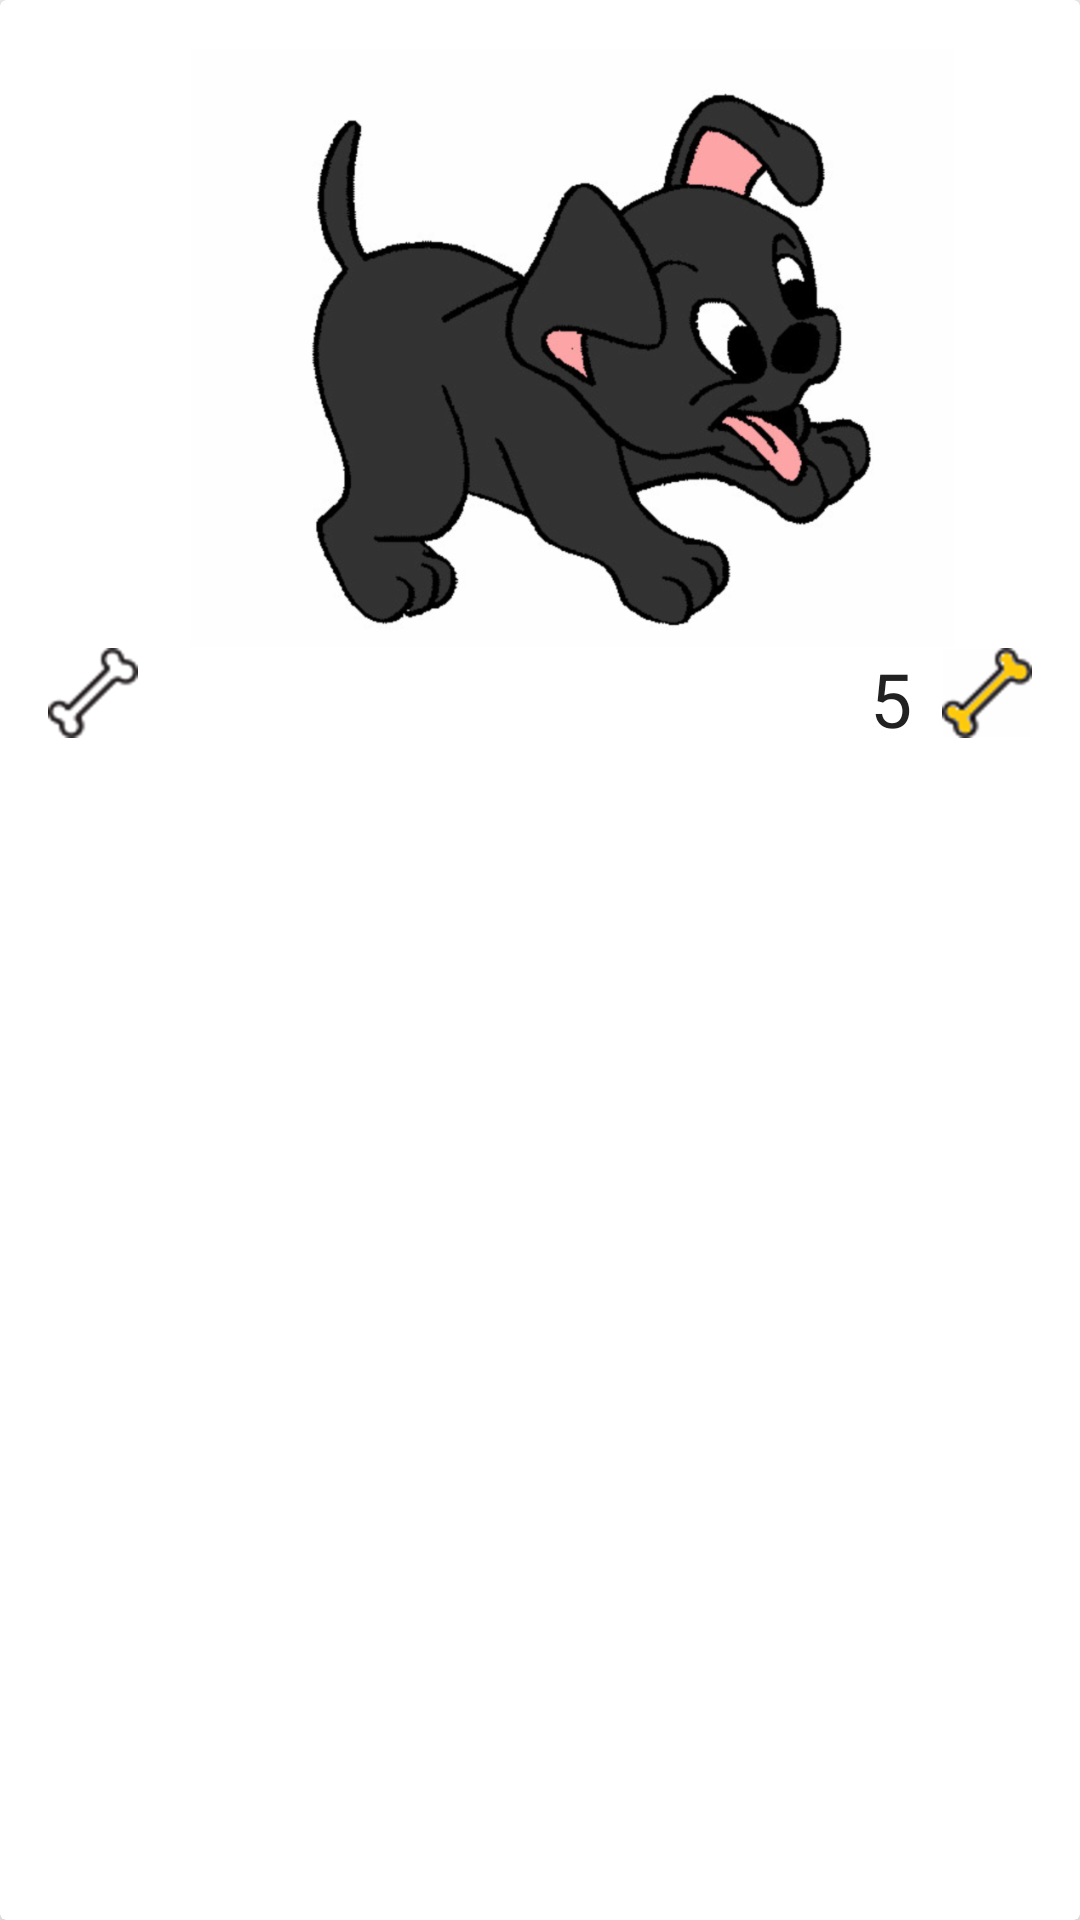

Named icons in this screenshot (1080px x 1920px) and their bounding boxes, (x1, y1, x2, y2):
huesoamarillo: (942, 648, 1032, 738)
huesoblanco: (48, 648, 138, 738)
